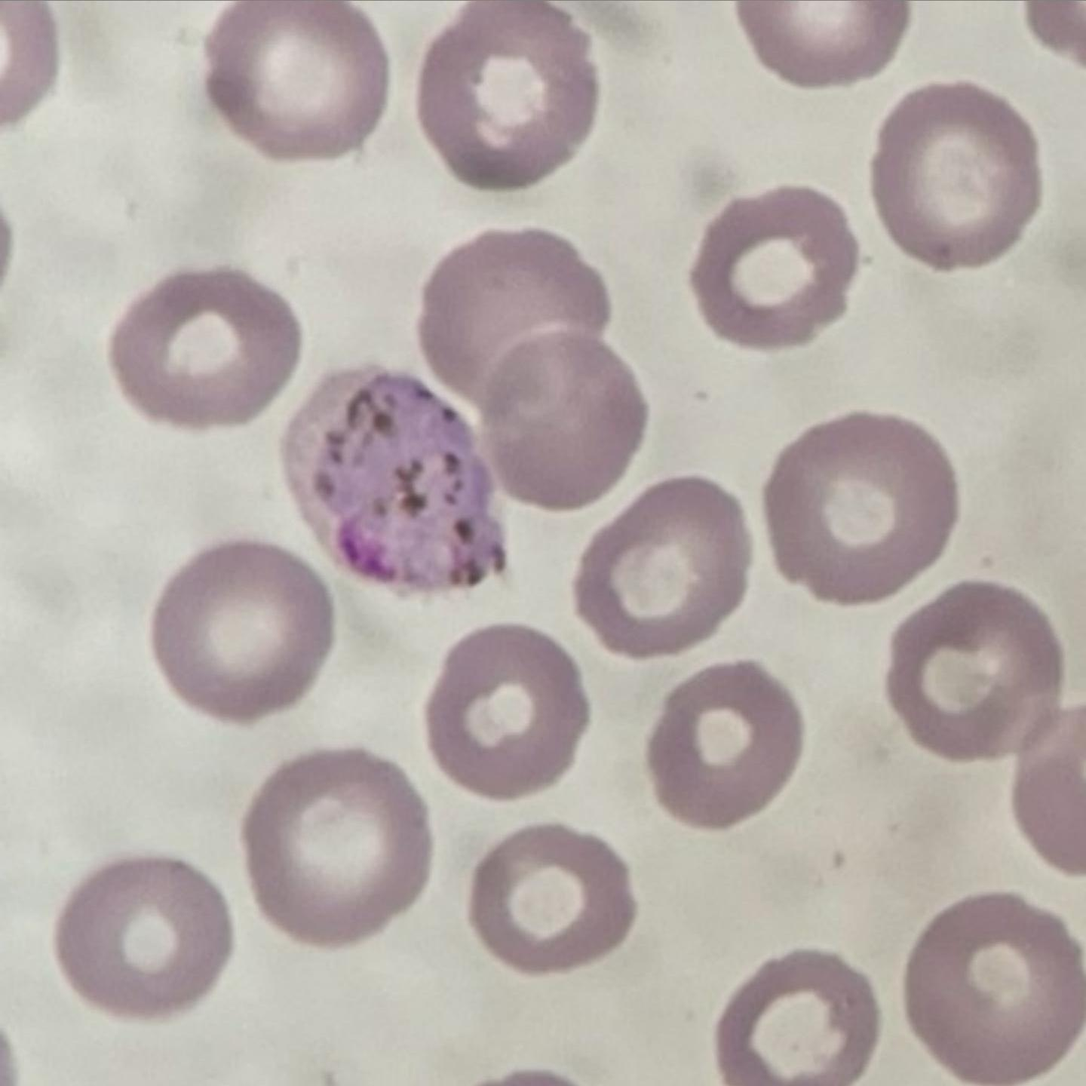Infected: (287, 365, 515, 591)
Uninfected: (243, 751, 432, 943), (764, 413, 952, 601), (422, 230, 607, 407), (418, 5, 596, 184), (152, 543, 329, 721), (903, 896, 1075, 1078), (886, 581, 1060, 760), (575, 478, 748, 658), (478, 333, 649, 511), (873, 81, 1038, 263), (110, 268, 296, 425), (426, 624, 587, 798), (207, 3, 387, 158), (55, 857, 229, 1014), (691, 187, 859, 348), (646, 661, 800, 827), (468, 825, 630, 972), (719, 955, 876, 1084)
